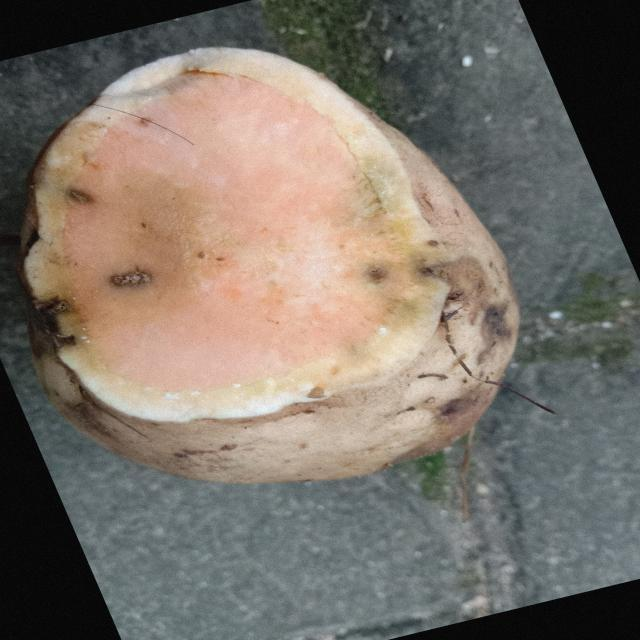Sick Sweet Potato_Tuber Rot: (23, 48, 447, 421)
